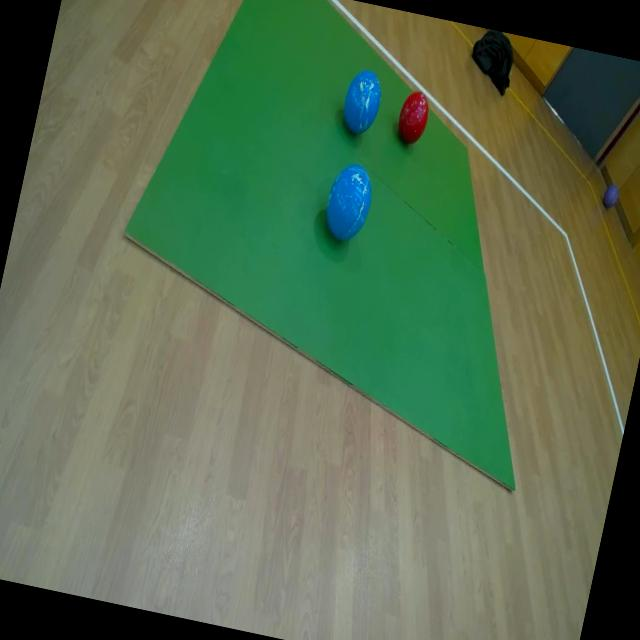blue_ball: (319, 160, 379, 248), (336, 68, 386, 139)
purple_ball: (598, 180, 622, 215)
red_ball: (392, 89, 433, 150)
